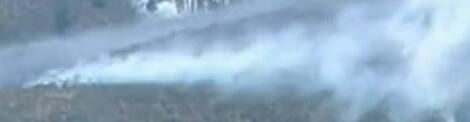yanwu: (16, 1, 470, 117)
